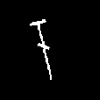double_crochet: (30, 19, 50, 79)
